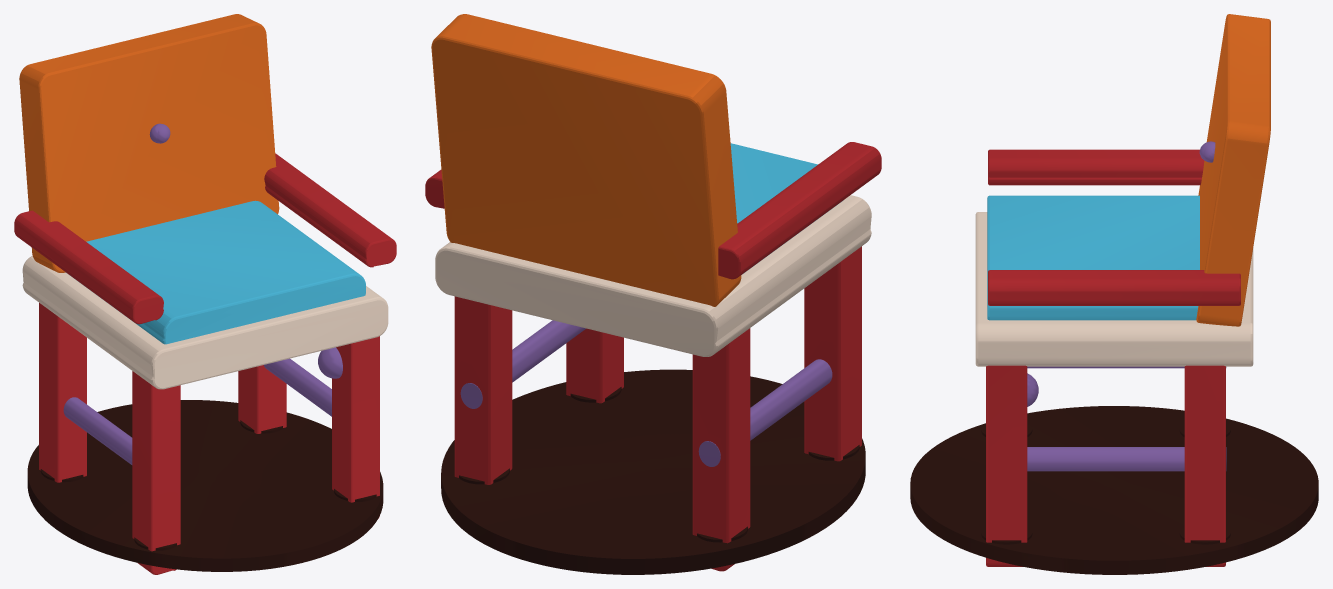
File: 1357_城市运转图鉴_室外消火栓.glb
The picture shows the model from 3 angles, left to right: view 1: azimuth 30°, elevation 25°; view 2: azimuth 150°, elevation 25°; view 3: azimuth 270°, elevation 25°; orthographic projection. The views are drawn at different scales.
Parts seen in each view (by area): view 1: card_1357; view 2: card_1357; view 3: card_1357.
Boxes of the visible parts, left/top/right/bottom form: card_1357: left=14, top=14, right=396, bottom=574; card_1357: left=425, top=14, right=881, bottom=574; card_1357: left=910, top=14, right=1318, bottom=574.
Size of the model in its own units: 0.7506 by 1 by 0.8362.
